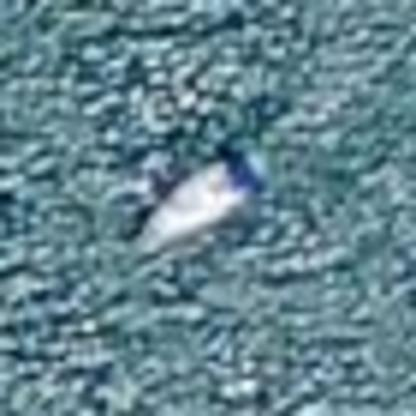ship: (117, 140, 312, 258)
